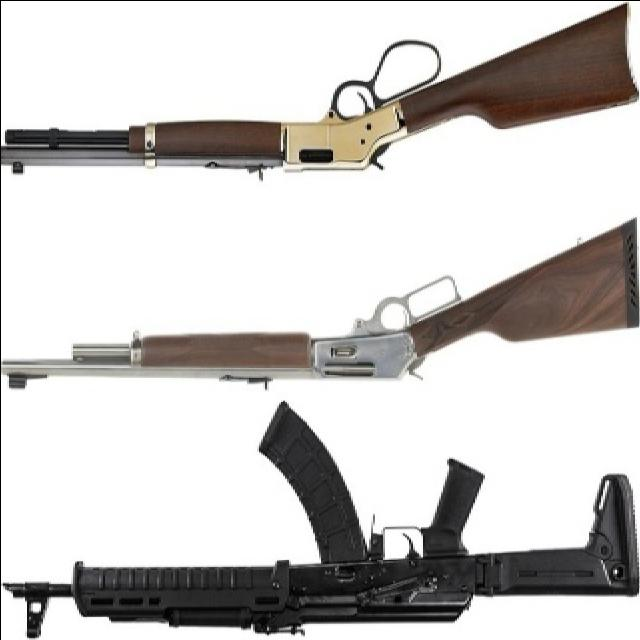rifle: (3, 403, 637, 640), (3, 14, 640, 206), (3, 233, 637, 397)
